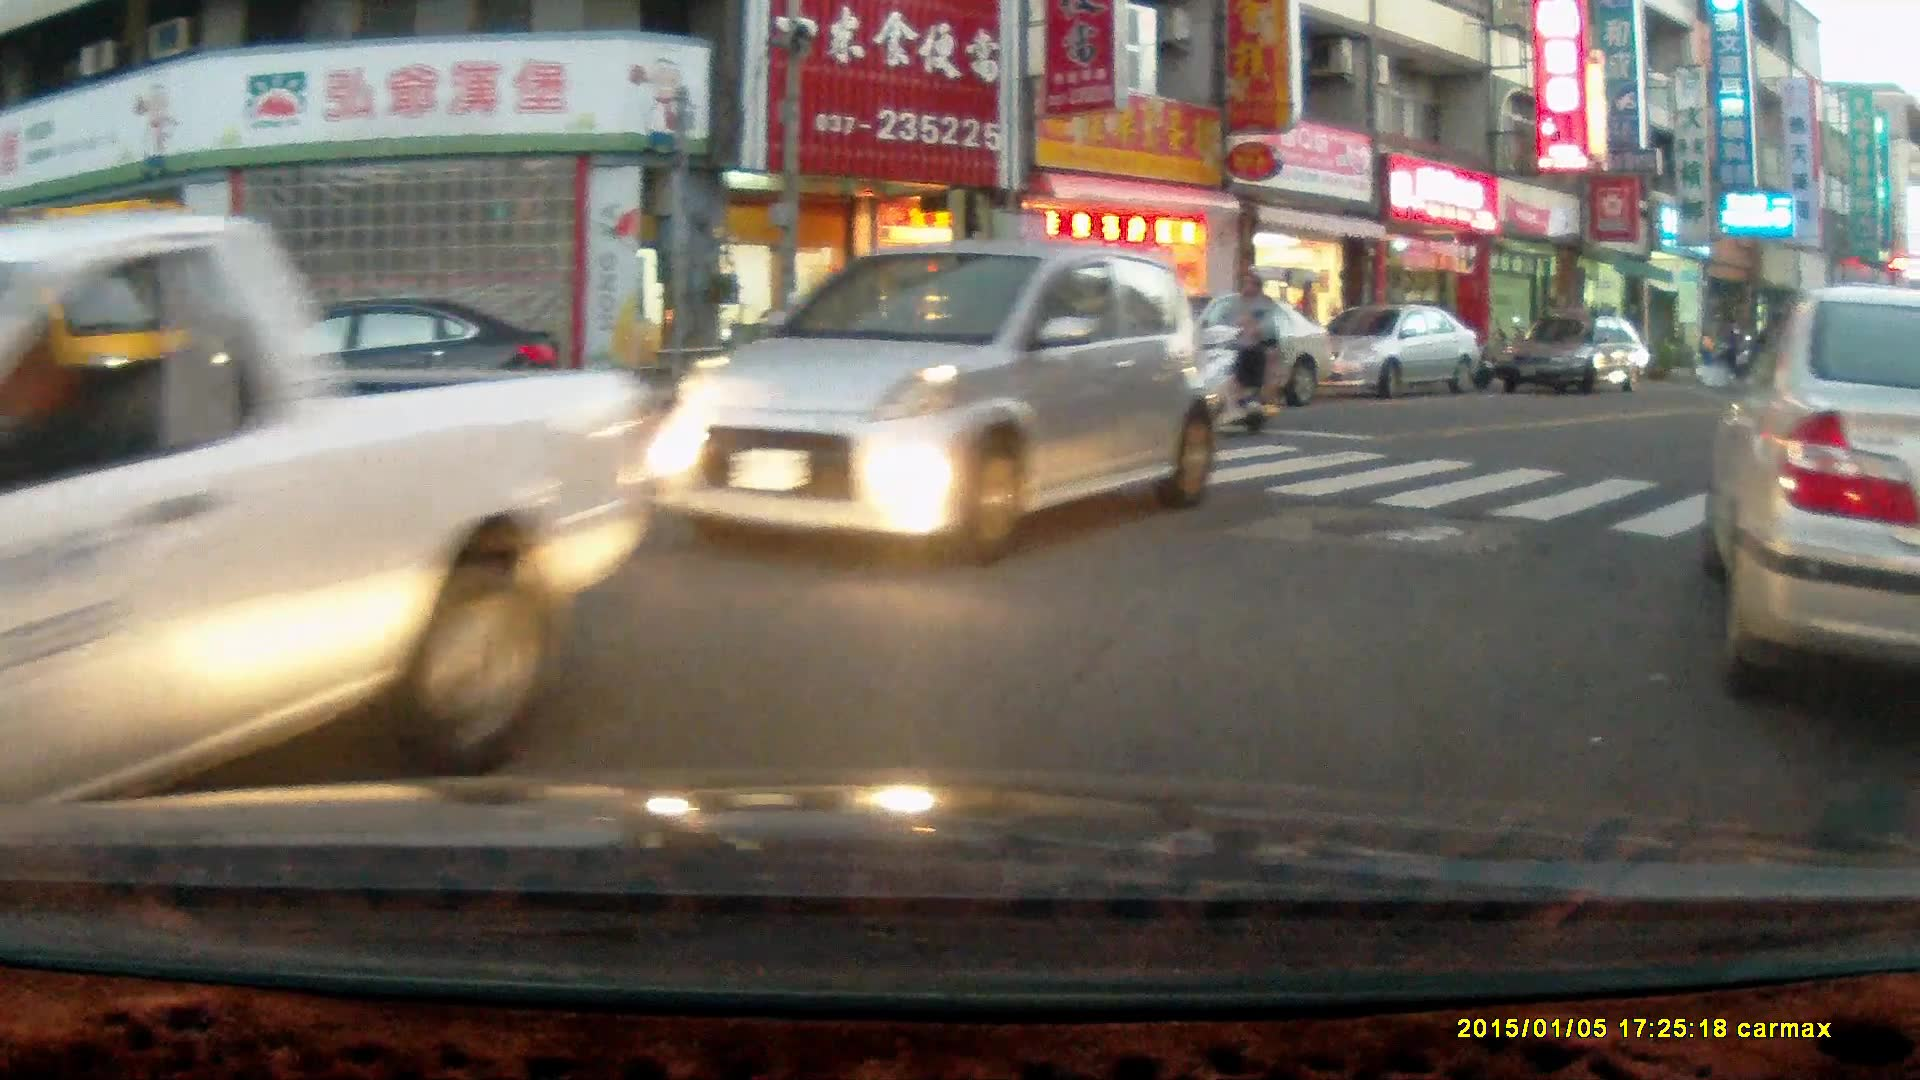rider: (1174, 259, 1283, 440)
vehicle: (1, 223, 664, 831), (637, 244, 1230, 562), (1703, 281, 1920, 721), (232, 292, 565, 444), (1129, 293, 1332, 412), (1309, 305, 1480, 397), (1495, 316, 1654, 396)
